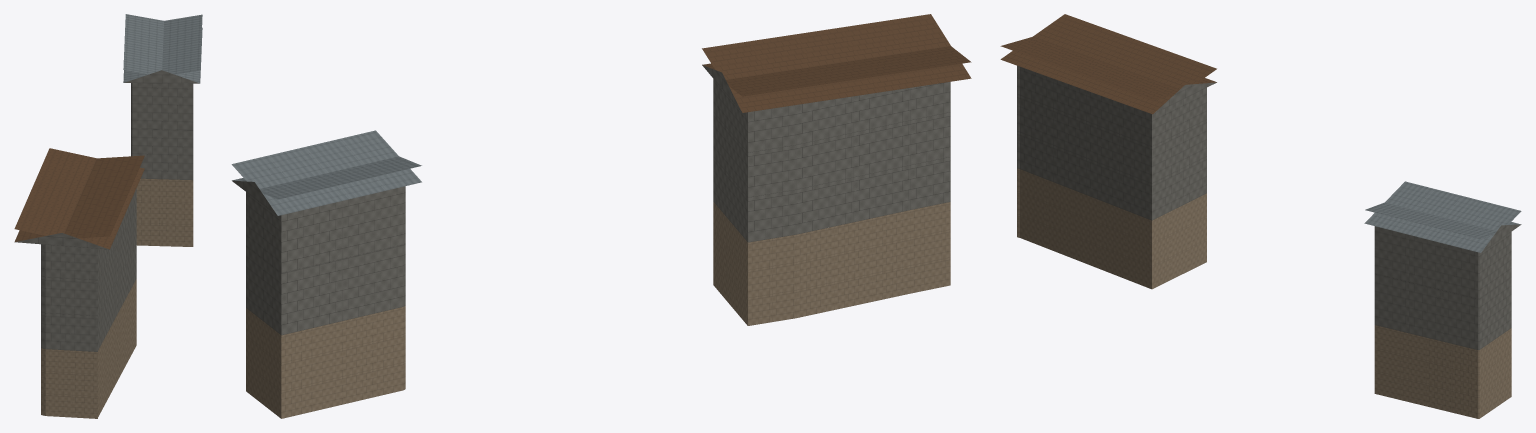
Rendered from bld_c-22_11_545.gltf.
3 views of the same model, side by side, from view 1: azimuth 30°, elevation 25°; view 2: azimuth 150°, elevation 25°; view 3: azimuth 270°, elevation 25° (orthographic). The views are drawn at different scales.
Visible parts, largest first — view 1: bld_c-22_11_545; view 2: bld_c-22_11_545; view 3: bld_c-22_11_545.
Boxes of the visible parts, box(x1,y1,x2,y2) form: bld_c-22_11_545: box(14, 14, 202, 418); bld_c-22_11_545: box(231, 14, 971, 418); bld_c-22_11_545: box(1000, 14, 1521, 418).
Bounding box in the file's own units: 31.14 × 15.9 × 35.03.
5 materials, 5 textured.
